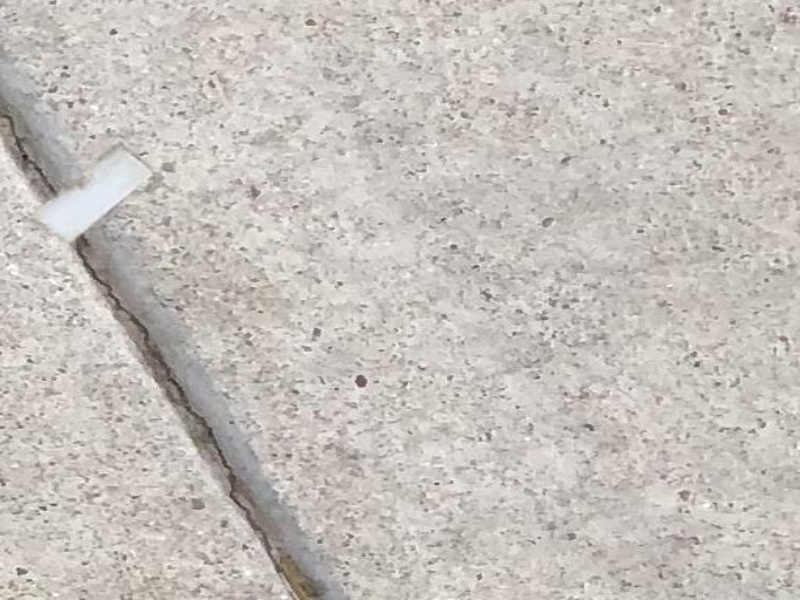cig: (30, 121, 161, 264)
